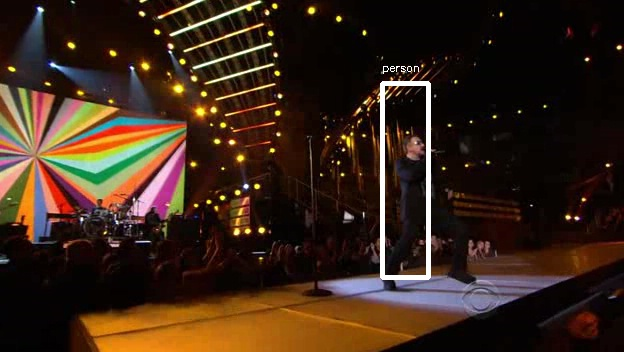person: (394, 138, 454, 241), (391, 138, 451, 241), (397, 138, 457, 241), (394, 135, 454, 238), (394, 141, 454, 244)
target_negative: (189, 1, 510, 161), (225, 172, 591, 283), (230, 100, 521, 183), (463, 5, 514, 144), (610, 332, 619, 346)
